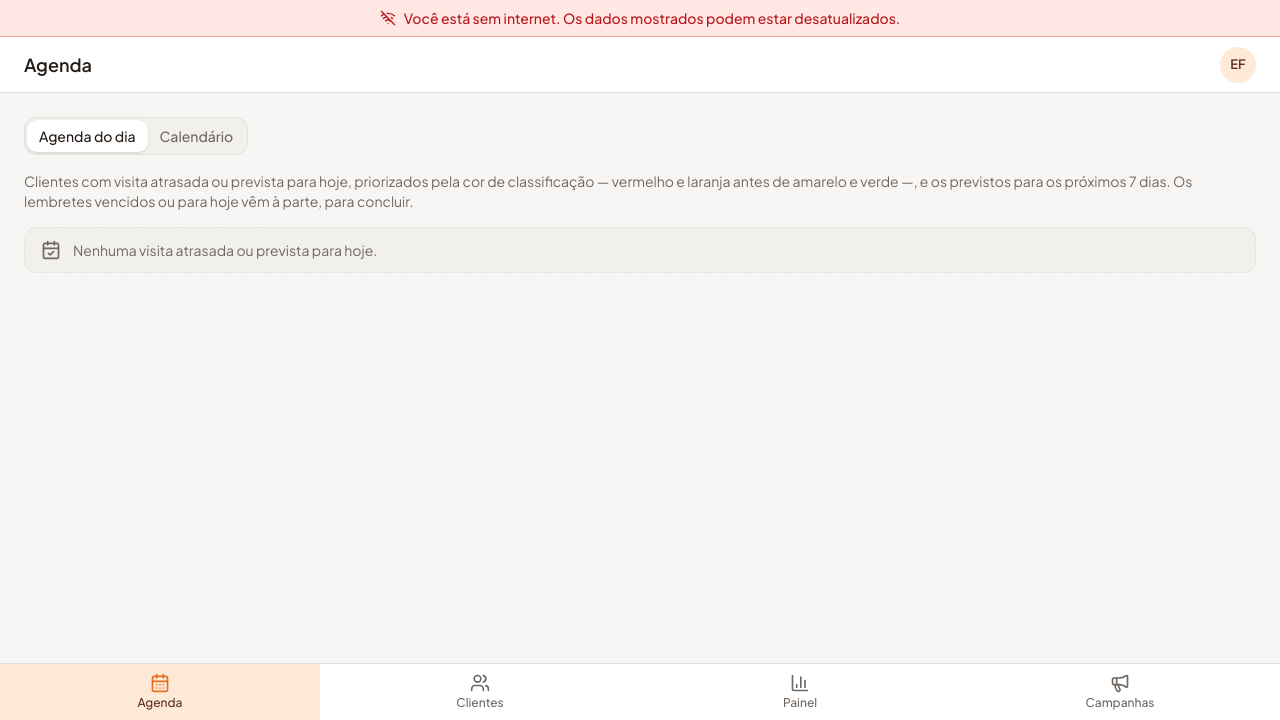
it: rotas da gestão de usuários › o menu da conta leva a "Alterar senha"
The width and height of the screenshot is (1280, 720).
Click the button with aria-label "Conta de Eduarda Fischer" at (1238, 64), box [1220,46,1256,82]
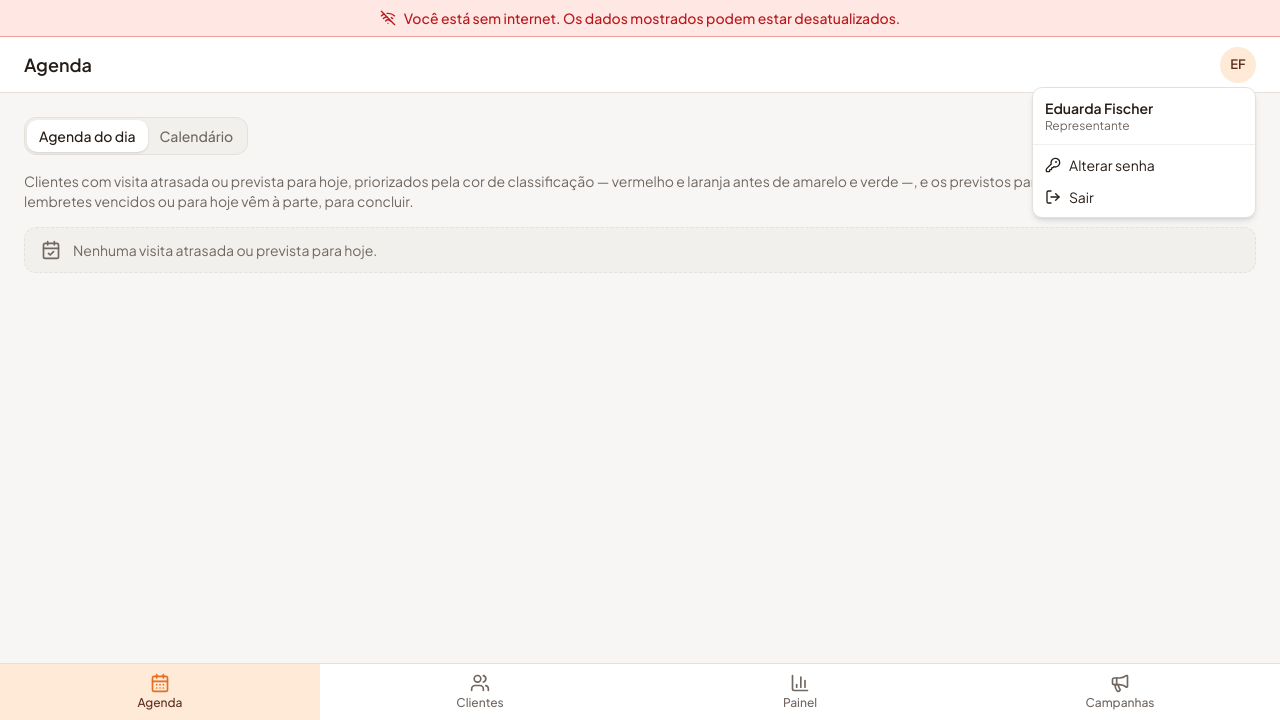
Click the menu item "Alterar senha" at (1100, 165), box [1045,156,1155,174]
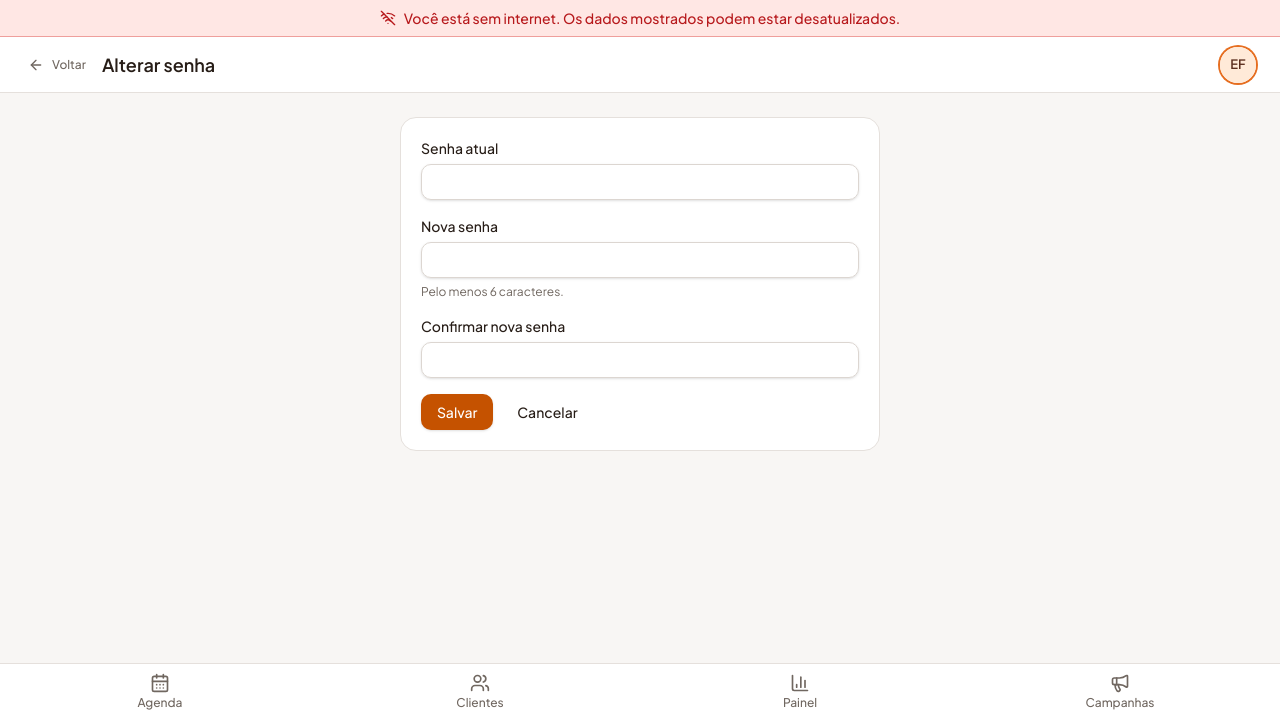
Expected: the heading "Alterar senha" is shown, [102,50,215,78]
Expected: the password field labelled "Senha atual" is shown, [421,164,859,200]
